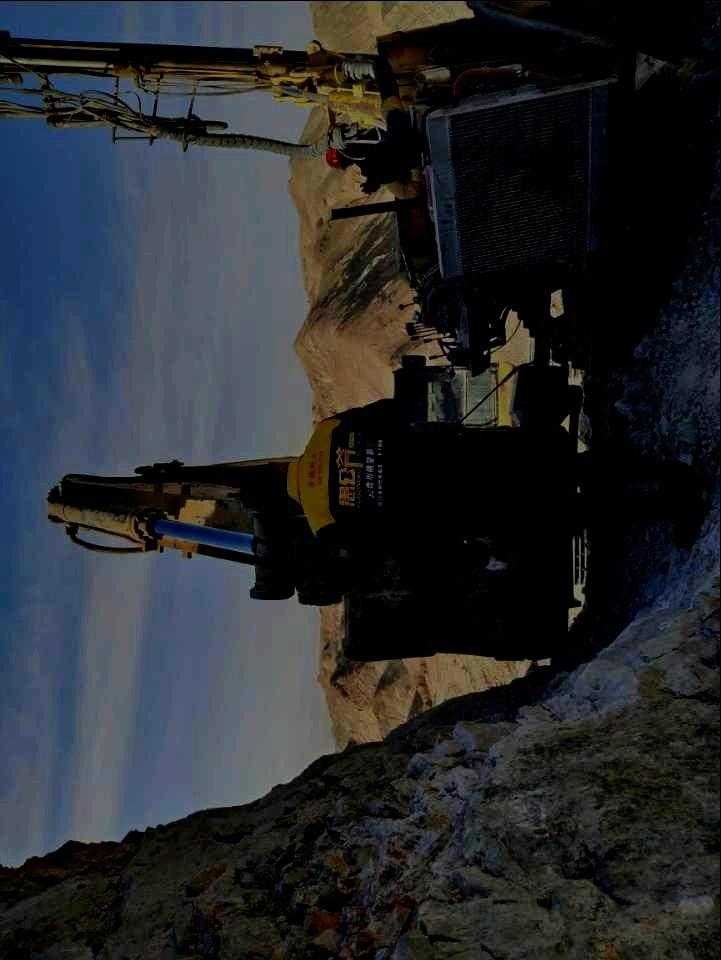helmet: (325, 146, 356, 171)
